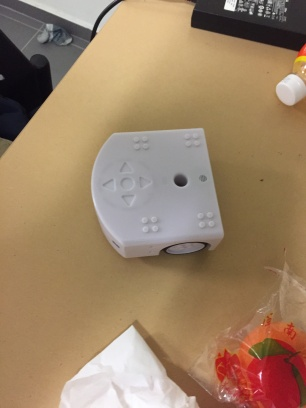thymio: (78, 124, 230, 264)
